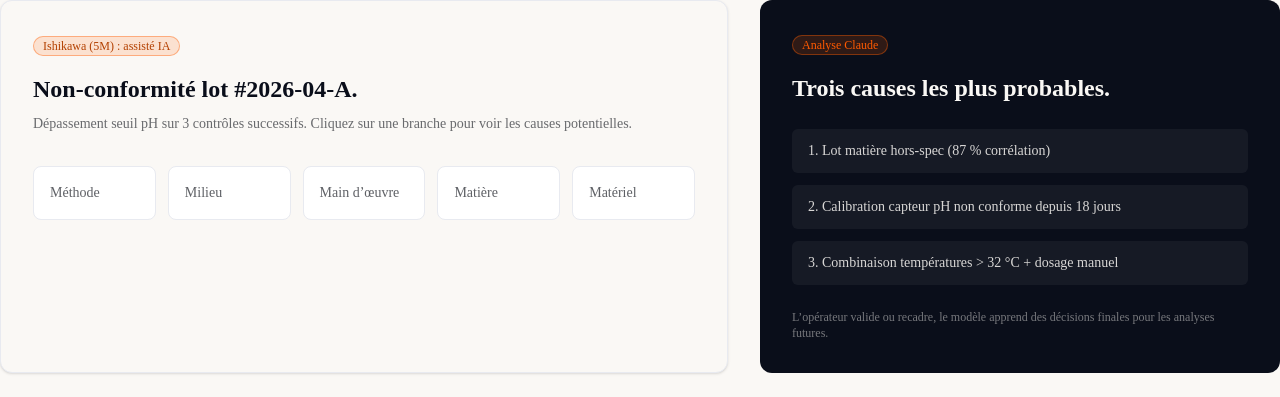
QualitOsDemo (Ishikawa 5M) › affiche les causes au clic d’une branche
This screenshot has width=1280, height=397.
Click the button "Méthode": (94, 193) [33,166,156,220]
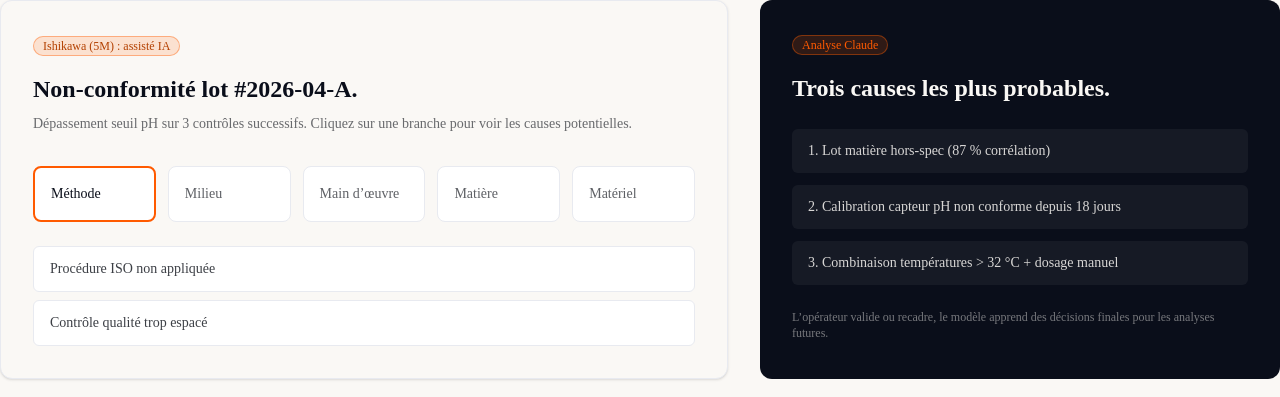
Now the list item "Procédure ISO non appliquée" is shown, box [33,246,695,292]
